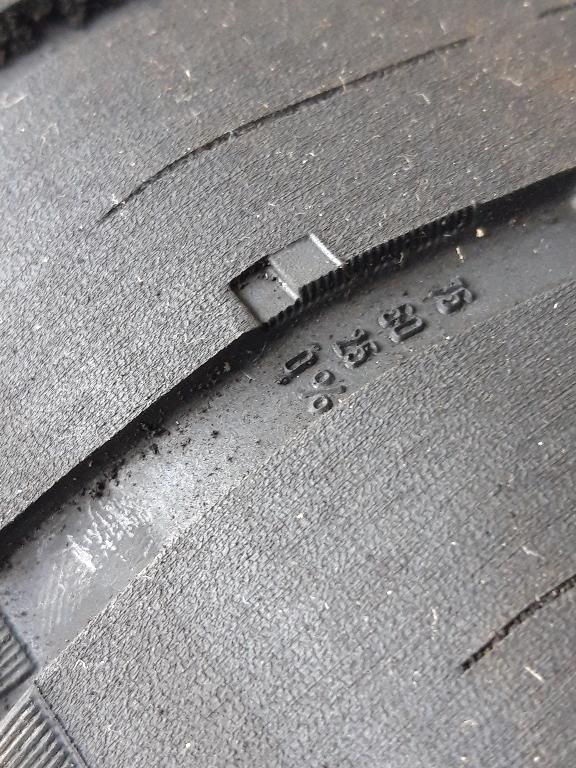temoin:25: (220, 227, 356, 346)
